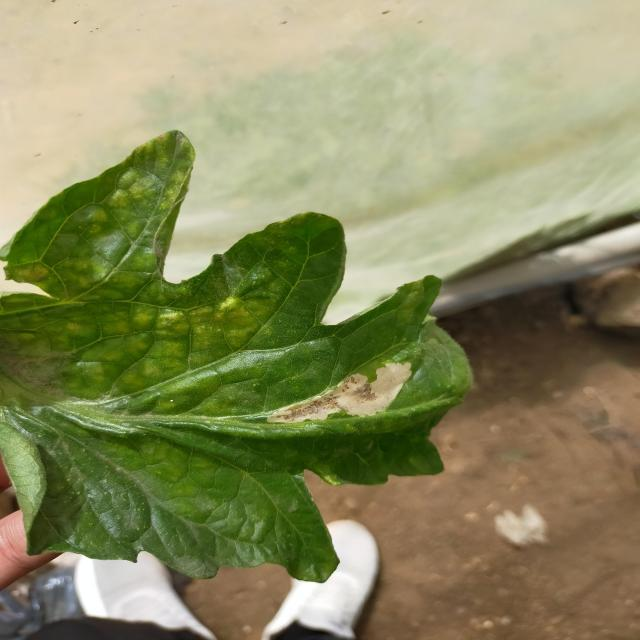Tuta absoluta: (262, 356, 422, 447)
